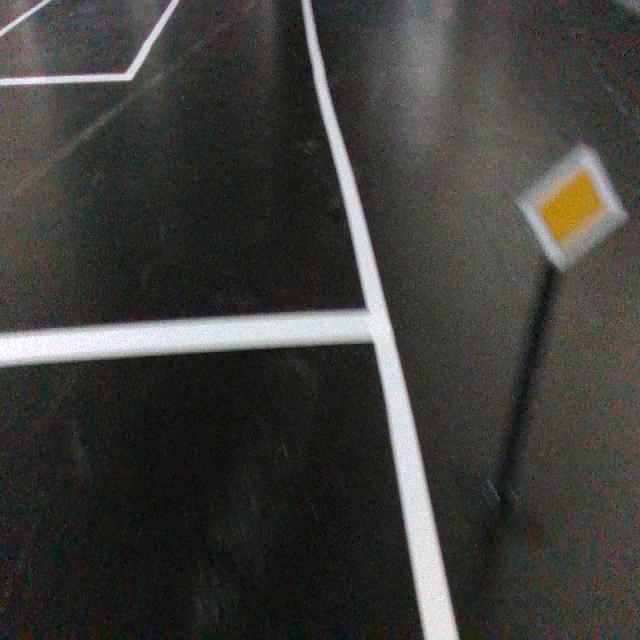priority-sign: (513, 141, 630, 276)
